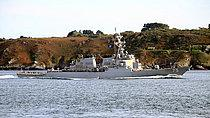MIL_Ship: (16, 30, 191, 78)
